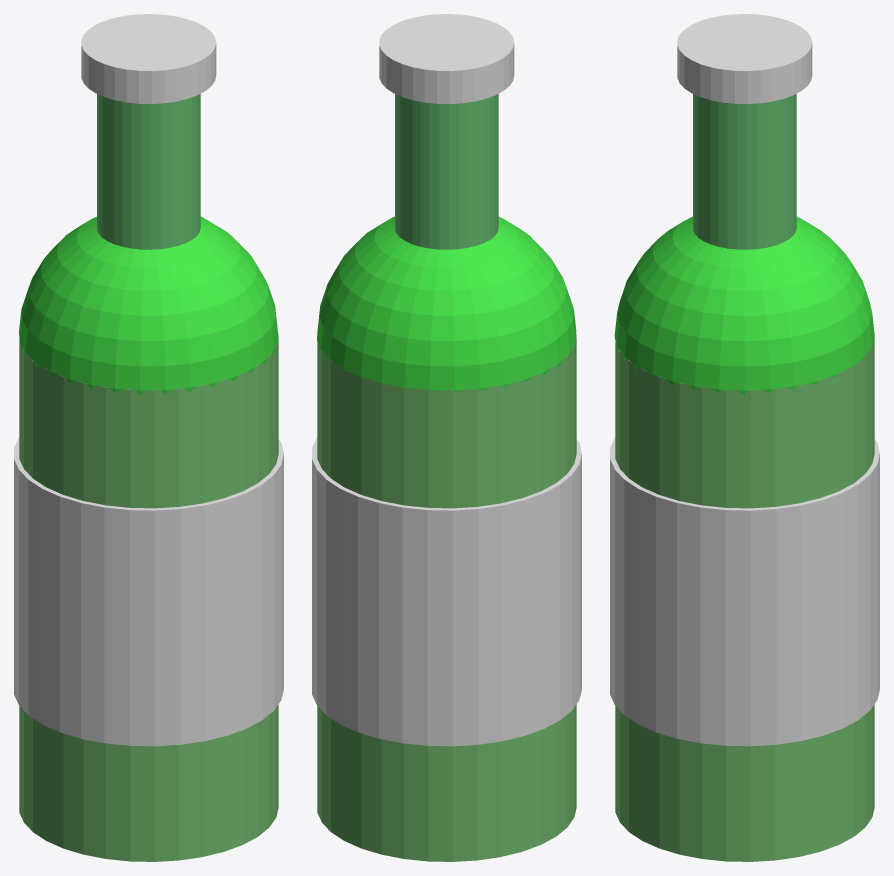
File: nektar.glb
The picture shows the model from 3 angles, left to right: view 1: azimuth 30°, elevation 25°; view 2: azimuth 150°, elevation 25°; view 3: azimuth 270°, elevation 25°; orthographic projection.
Visible parts, largest first — view 1: Cylinder.003, Cylinder, Sphere, Cylinder.001, Cylinder.002; view 2: Cylinder.003, Cylinder, Sphere, Cylinder.001, Cylinder.002; view 3: Cylinder.003, Cylinder, Sphere, Cylinder.001, Cylinder.002.
Part boxes in pixels (x1,y1,x2,y2): Cylinder.003: (14, 437, 283, 746); Cylinder: (19, 333, 278, 861); Sphere: (19, 216, 278, 395); Cylinder.001: (97, 94, 200, 249); Cylinder.002: (81, 14, 216, 103); Cylinder.003: (312, 437, 581, 746); Cylinder: (317, 330, 576, 861); Sphere: (317, 216, 576, 391); Cylinder.001: (395, 94, 498, 249); Cylinder.002: (379, 14, 514, 103); Cylinder.003: (610, 437, 879, 746); Cylinder: (615, 337, 874, 861); Sphere: (614, 216, 874, 394); Cylinder.001: (693, 94, 796, 249); Cylinder.002: (677, 14, 812, 103).
Bounding box in the file's own units: 0.5194 × 1.62 × 0.5188.
